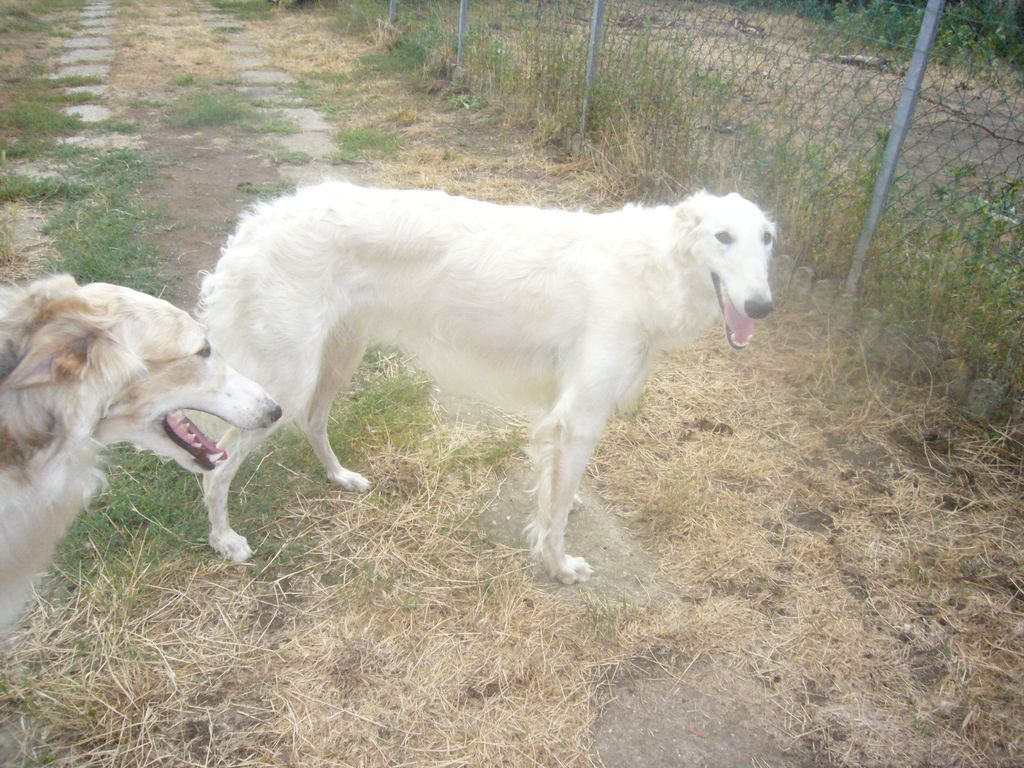borzoi: (165, 159, 814, 593), (0, 196, 285, 672)
